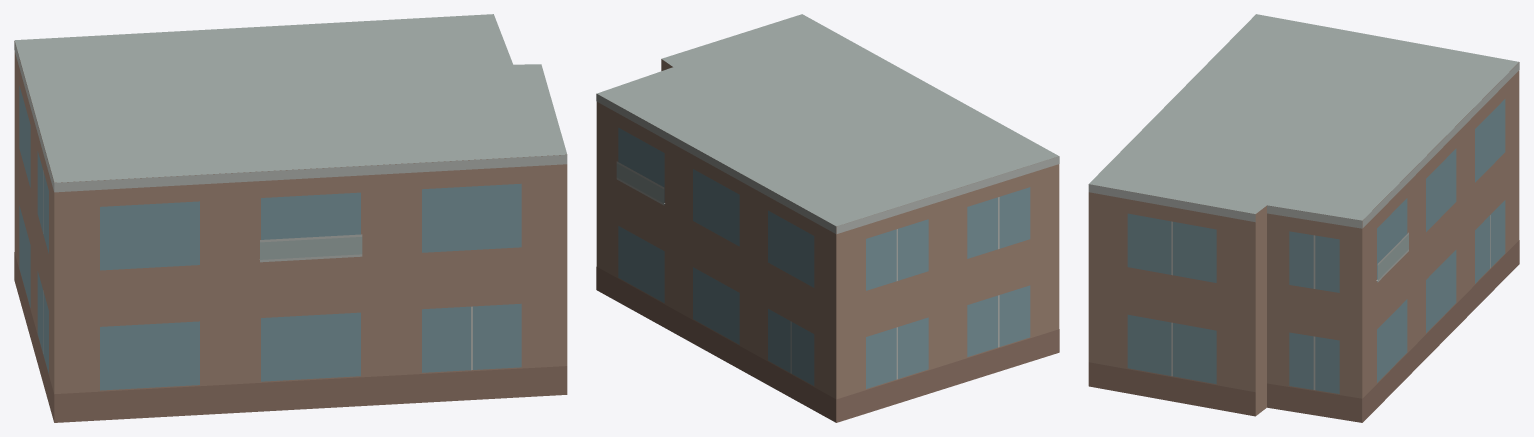
File: survey-upis-33037848.glb
3 views of the same model, side by side, from view 1: azimuth 30°, elevation 25°; view 2: azimuth 150°, elevation 25°; view 3: azimuth 270°, elevation 25° (orthographic). The views are drawn at different scales.
Parts seen in each view (by area): view 1: survey-upis-33037848.tmp; view 2: survey-upis-33037848.tmp; view 3: survey-upis-33037848.tmp.
Part boxes in pixels (x1,y1,x2,y2): survey-upis-33037848.tmp: (14, 14, 567, 422); survey-upis-33037848.tmp: (596, 14, 1059, 422); survey-upis-33037848.tmp: (1088, 14, 1519, 422).
Bounding box in the file's own units: 13.37 × 6.1 × 11.78.
